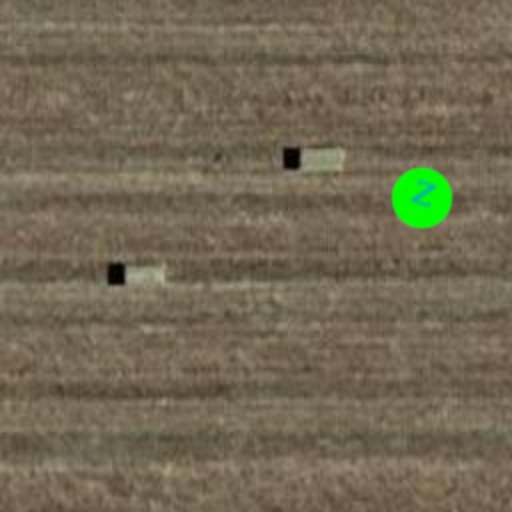circle: (382, 158, 462, 238)
